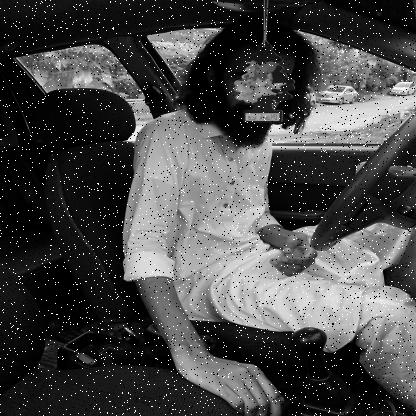no_seatbelt: (161, 23, 311, 271)
